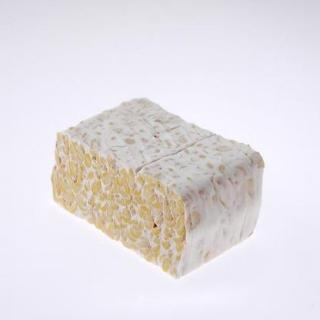Tempe: (50, 96, 267, 282)
